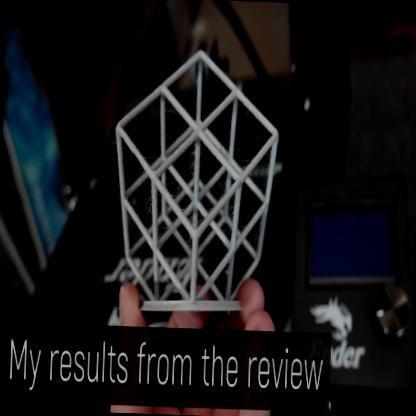fail: (242, 129, 268, 153), (188, 153, 198, 180), (144, 191, 153, 220)
